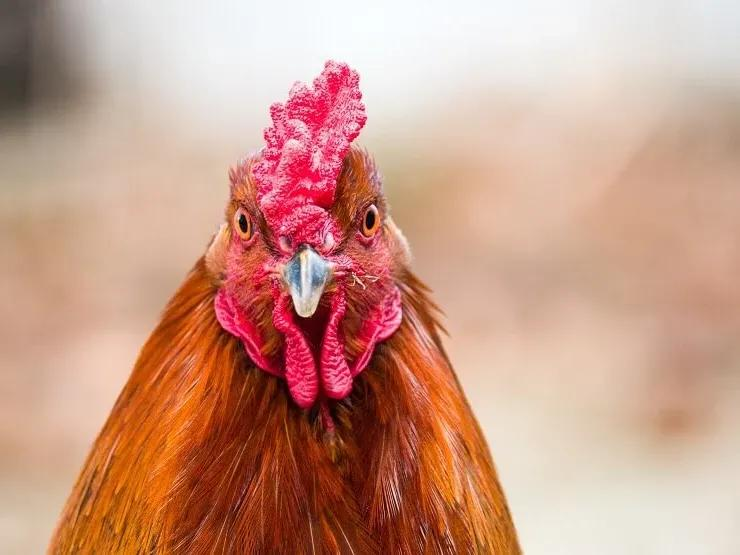AbNormal: (252, 60, 368, 243)
